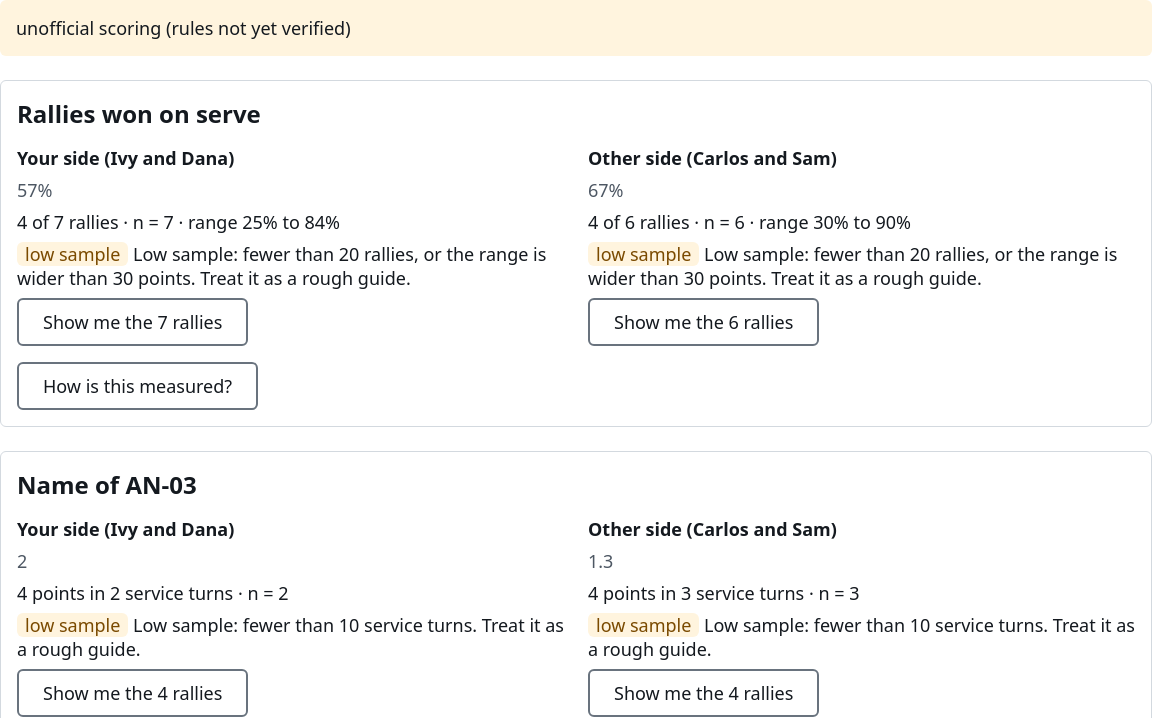
Scenario: E-01 "Show me" panel (ST-047; E2E-03-02, E2E-03-09) › no rally behind it: says so instead of an empty list
Expected: the heading "Rallies won on serve" is shown, [17,97,261,130]
Click the button "Show me the 7 rallies".
click(133, 322)  # box [17,298,248,346]
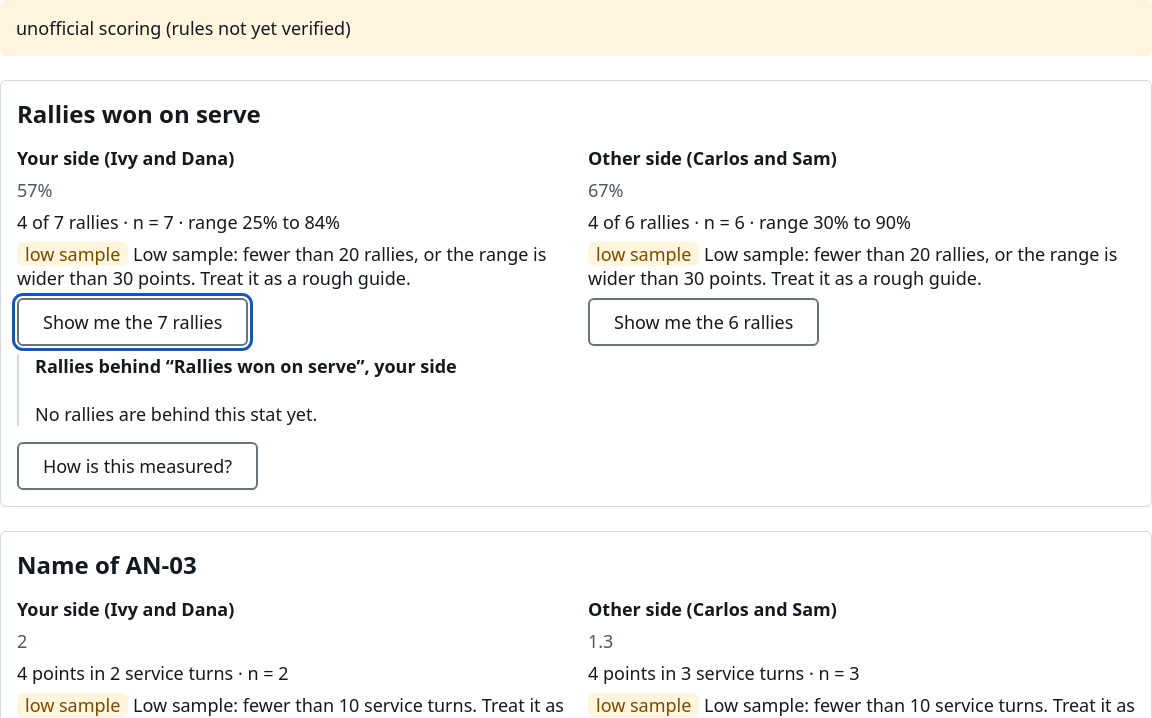
Now the text "No rallies are behind this stat yet." is shown, box [35,402,317,426]
